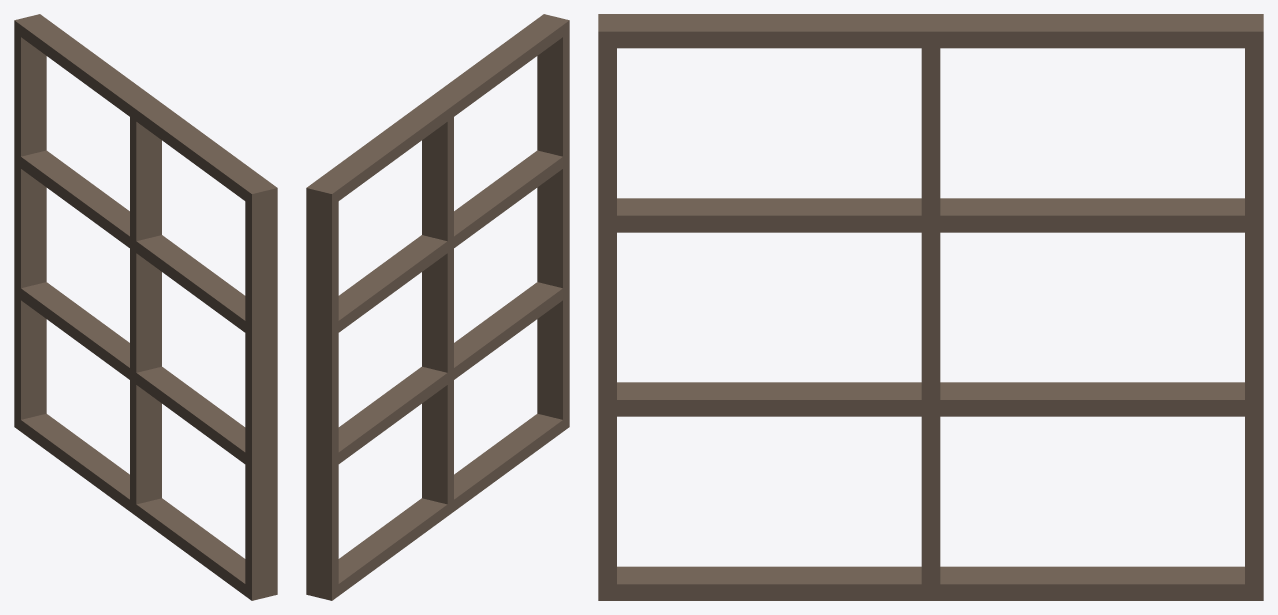
File: 26R4GGj8v8EAchpBZVtQxu.dae
3 views of the same model, side by side, from view 1: azimuth 30°, elevation 25°; view 2: azimuth 150°, elevation 25°; view 3: azimuth 270°, elevation 25° (orthographic). The views are drawn at different scales.
Parts seen in each view (by area): view 1: product-866c4410-b48e-4838-a9ab-ccb8dfddaef8-body; view 2: product-866c4410-b48e-4838-a9ab-ccb8dfddaef8-body; view 3: product-866c4410-b48e-4838-a9ab-ccb8dfddaef8-body.
Part boxes in pixels (x1,y1,x2,y2): product-866c4410-b48e-4838-a9ab-ccb8dfddaef8-body: (14,14,277,600); product-866c4410-b48e-4838-a9ab-ccb8dfddaef8-body: (306,14,569,600); product-866c4410-b48e-4838-a9ab-ccb8dfddaef8-body: (598,14,1263,600).
Size of the model in its own units: 0.1143 by 1.83 by 1.73.
